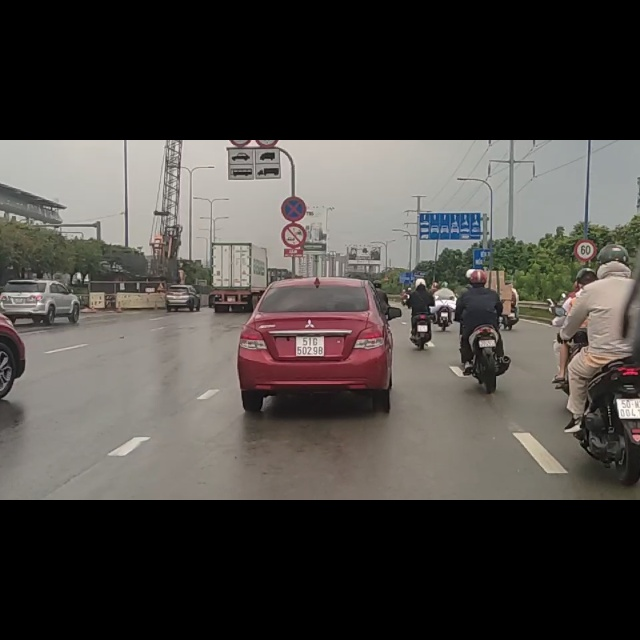bien_chi_dan: (281, 100, 306, 143), (575, 173, 597, 216)
